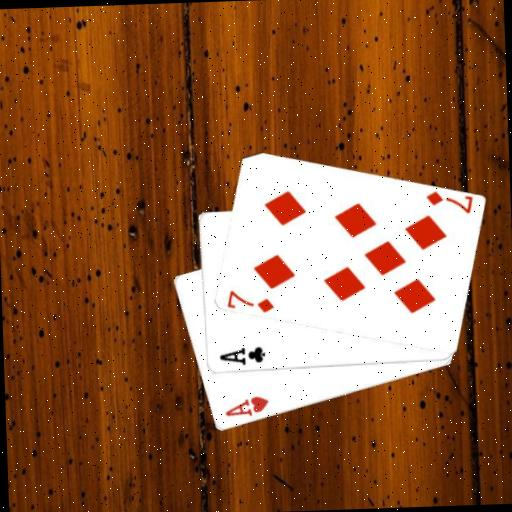7D: (223, 286, 275, 315), (422, 188, 474, 217)
AC: (216, 343, 267, 368)
AH: (220, 392, 270, 418)
